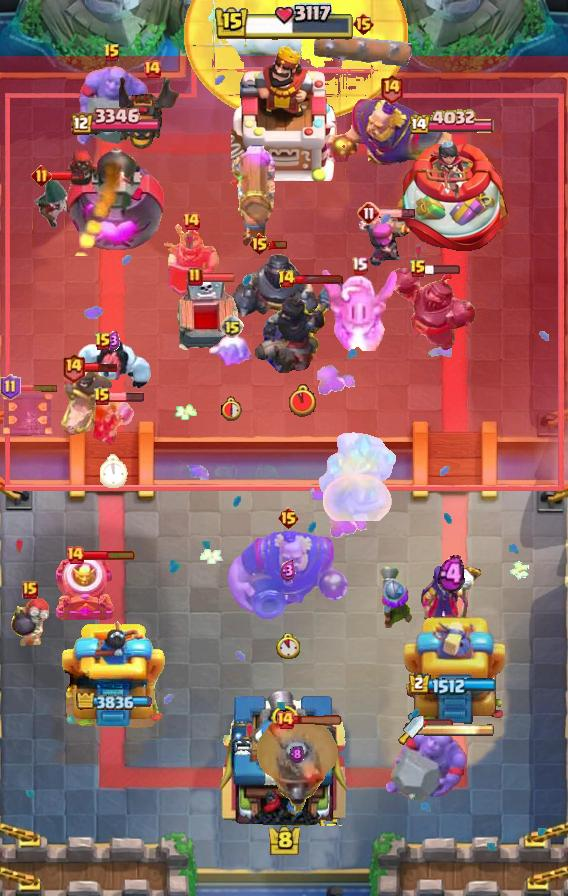archer-evolution: (119, 73, 185, 151)
archer-queen: (71, 63, 153, 151), (383, 724, 469, 804)
axe: (419, 563, 483, 629)
bar: (401, 611, 505, 731)
battle-healer: (230, 145, 276, 249)
bomb-tower: (380, 564, 414, 628)
cannoneer-tower: (315, 431, 405, 521)
clock: (213, 3, 355, 43)
dark-prince: (249, 723, 343, 811)
earthquake: (162, 219, 220, 299)
electro-spirit: (439, 554, 466, 594), (280, 560, 296, 582), (106, 331, 120, 351), (289, 745, 304, 763)
elixir: (99, 454, 128, 488), (288, 384, 315, 417), (276, 633, 300, 659), (221, 395, 244, 420)
elixir-golem-mid: (171, 273, 241, 359)
emote: (83, 549, 137, 561), (294, 274, 344, 286), (292, 714, 344, 725), (5, 384, 59, 393), (49, 170, 85, 183), (425, 263, 461, 275), (109, 391, 145, 403), (379, 208, 416, 219), (200, 273, 236, 284), (83, 362, 119, 373), (418, 719, 454, 730), (268, 238, 288, 249)
freeze: (58, 366, 114, 436)
goblin-cage: (53, 554, 117, 624)
hog-rider: (92, 401, 136, 449)
ice-golem: (9, 595, 51, 647)
ice-spirit-evolution-symbol: (0, 389, 54, 439)
inferno-dragon: (254, 275, 350, 373)
king-tower: (214, 684, 354, 826), (231, 43, 337, 181)
king-tower-bar: (424, 723, 494, 737)
lightning: (325, 98, 460, 198), (223, 530, 352, 622)
minion: (314, 32, 412, 68)
mirror: (207, 334, 257, 372)
night-witch: (319, 267, 399, 351)
phoenix-egg: (184, 0, 408, 122)
queen-tower: (390, 137, 516, 255), (60, 617, 168, 731)
rage: (75, 339, 151, 395)
royal-guardian: (225, 241, 325, 331), (387, 267, 479, 353)
selected: (68, 108, 160, 137), (411, 109, 498, 137), (410, 672, 499, 696), (75, 693, 152, 710)
tesla: (32, 177, 76, 231)
text: (380, 72, 405, 103), (62, 352, 87, 383), (357, 201, 381, 225), (220, 315, 244, 339), (352, 12, 375, 36), (248, 232, 271, 256), (276, 506, 299, 530), (0, 374, 20, 400), (32, 166, 53, 187), (142, 59, 162, 79), (181, 211, 201, 231), (276, 269, 296, 289), (65, 545, 85, 565), (275, 710, 295, 730), (103, 43, 121, 63), (409, 259, 427, 279), (94, 332, 112, 352), (93, 387, 111, 407), (351, 257, 369, 275), (187, 267, 203, 287), (22, 581, 38, 599)
tombstone: (356, 214, 414, 268)
tower-bar: (63, 138, 164, 256)
